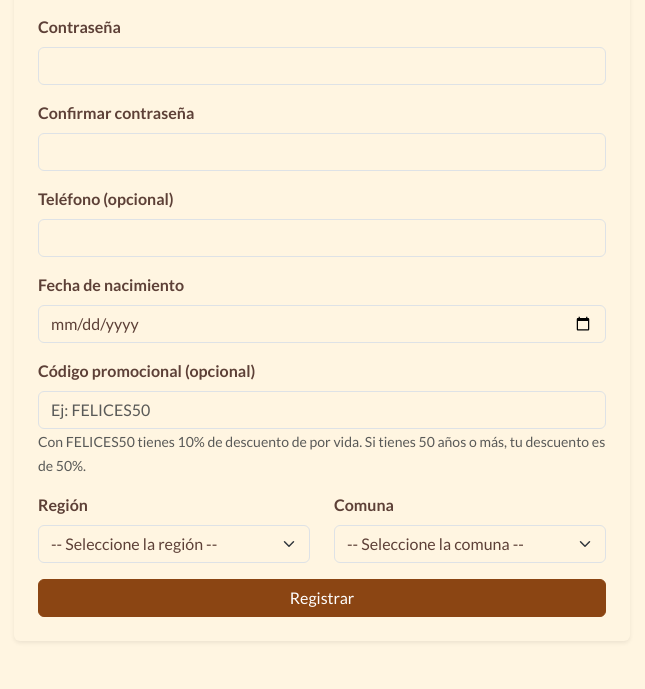
Scenario: <Registro /> › rechaza un código promocional que no existe
(page scrolled)
Type "GRATIS100" into the field labelled "Código promocional (opcional)". click: x=322, y=410
box: [38,391,606,429]
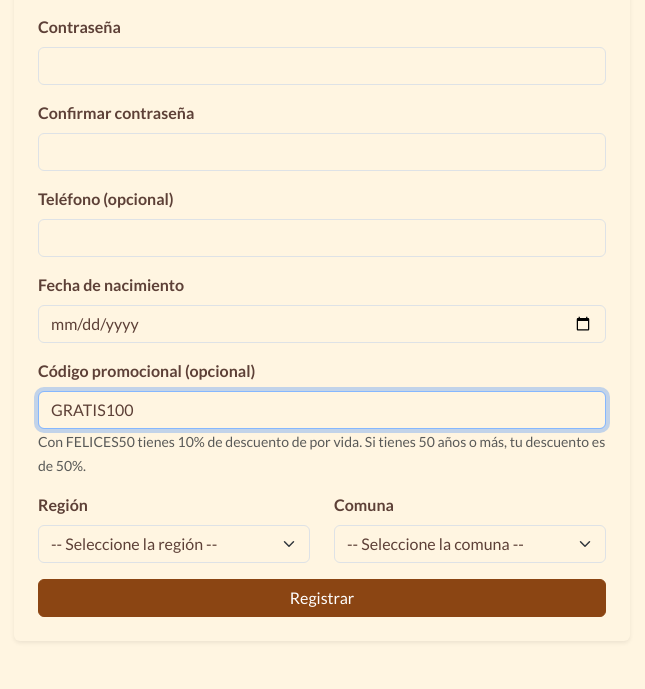
Click the button "Registrar". click: x=322, y=598
box: [38,579,606,617]
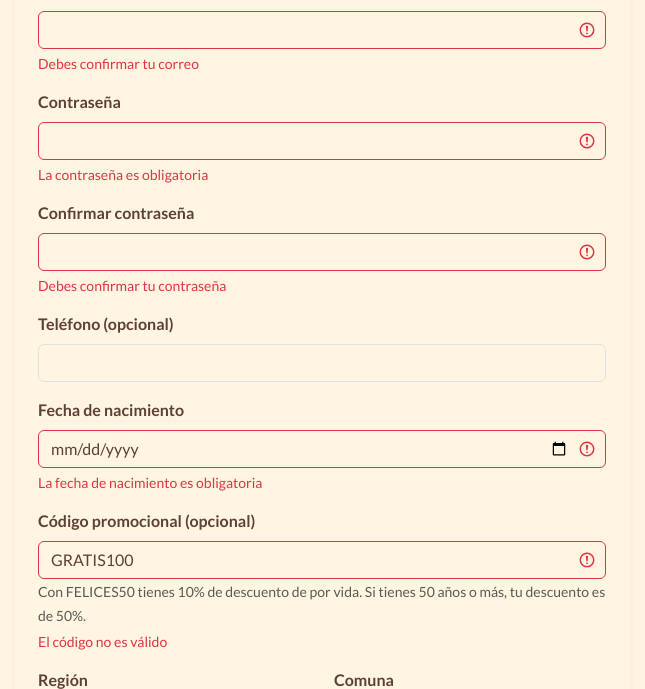
Check: the text "El código no es válido" is shown, box [38,633,167,650]
Check: the text "La fecha de nacimiento es obligatoria" is shown, box [38,474,262,491]
